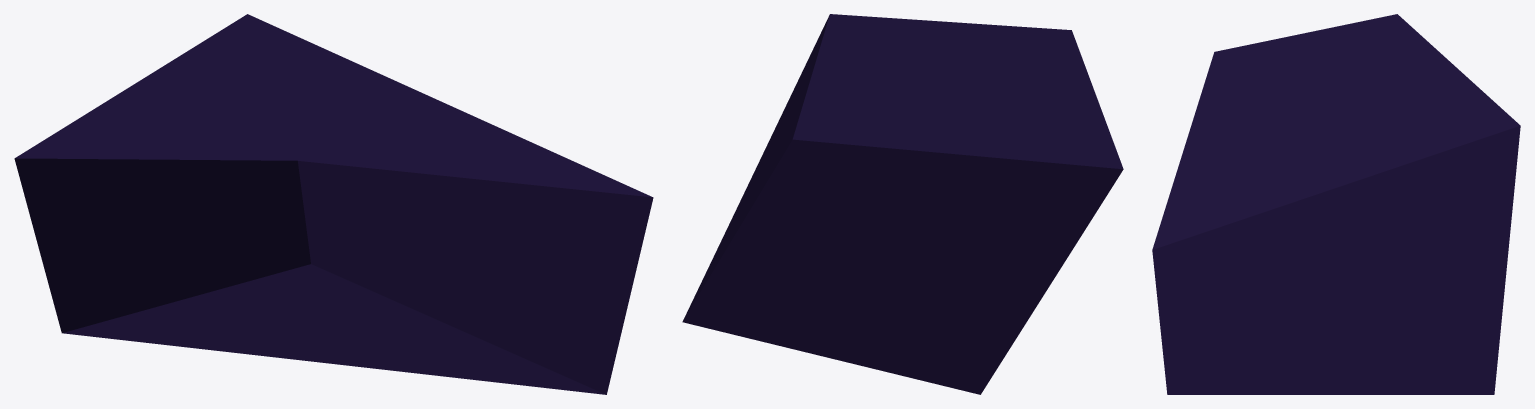
File: rock1.glb
3 renders of one model, left to right at view 1: azimuth 30°, elevation 25°; view 2: azimuth 150°, elevation 25°; view 3: azimuth 270°, elevation 25°, orthographic. The views are drawn at different scales.
Visible parts, largest first — view 1: Cube; view 2: Cube; view 3: Cube.
Boxes of the visible parts, x1,y1,x2,y2 form: Cube: (14, 14, 653, 394); Cube: (682, 14, 1123, 394); Cube: (1152, 14, 1520, 394).
Bounding box in the file's own units: 2.83 × 1.56 × 2.25.
